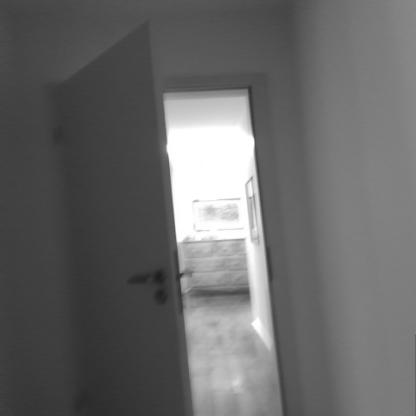semi: (51, 46, 298, 416)
